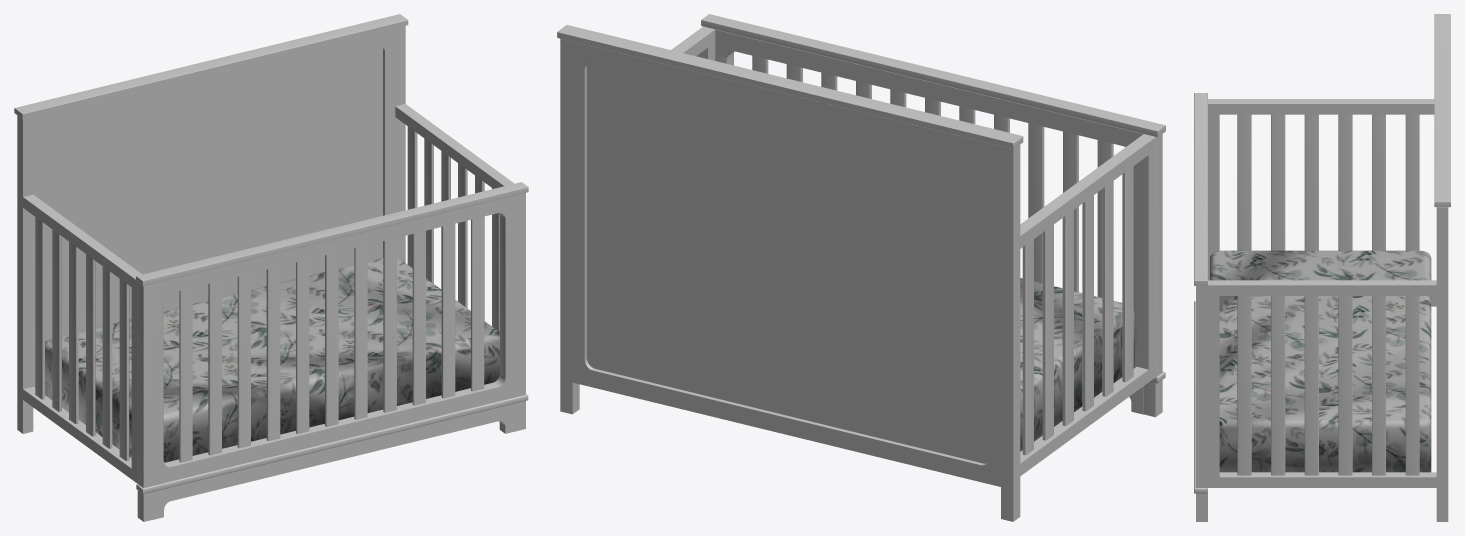
3 views of the same model, side by side, from view 1: azimuth 30°, elevation 25°; view 2: azimuth 150°, elevation 25°; view 3: azimuth 270°, elevation 25° (orthographic). The views are drawn at different scales.
Parts seen in each view (by area): view 1: Crib Frame_0, Cube_1; view 2: Crib Frame_0, Cube_1; view 3: Crib Frame_0, Cube_1.
Part boxes in pixels (bbox=[...]): Crib Frame_0: bbox=[14, 14, 528, 521]; Cube_1: bbox=[45, 257, 499, 462]; Crib Frame_0: bbox=[557, 14, 1165, 521]; Cube_1: bbox=[1020, 278, 1134, 451]; Crib Frame_0: bbox=[1194, 14, 1450, 521]; Cube_1: bbox=[1210, 250, 1431, 472].
Size of the model in its own units: 1.43 by 1.14 by 0.8246.
